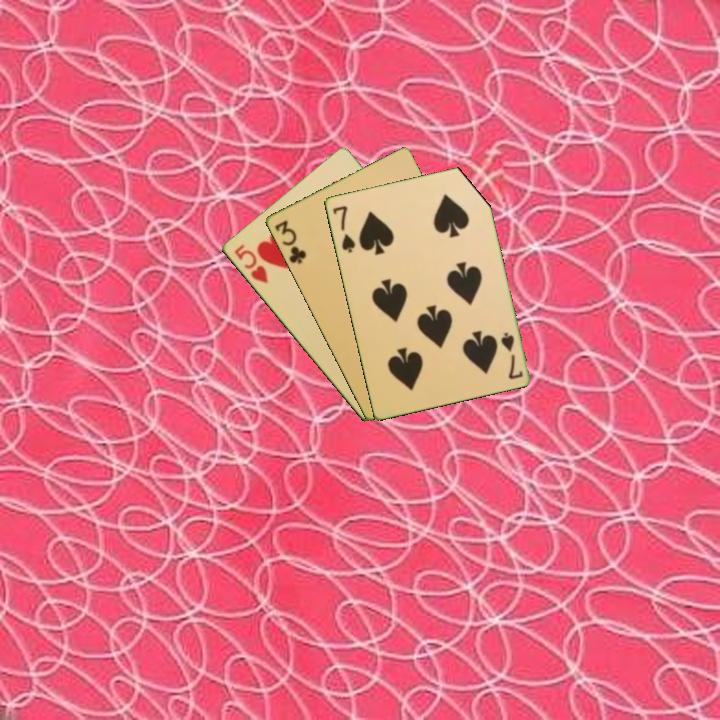3c: (271, 216, 309, 267)
5h: (230, 240, 271, 287)
7s: (329, 202, 358, 256), (497, 329, 525, 382)
